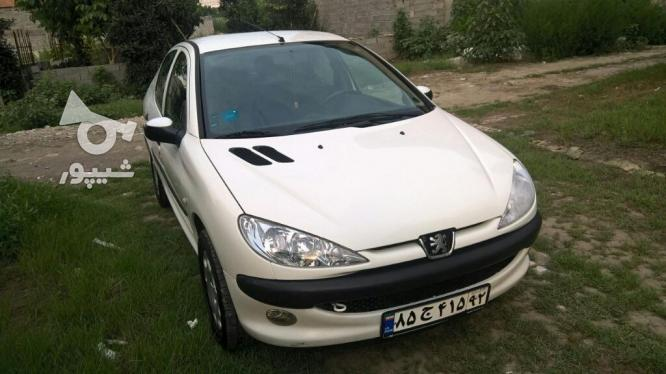car: (382, 284, 486, 338)
